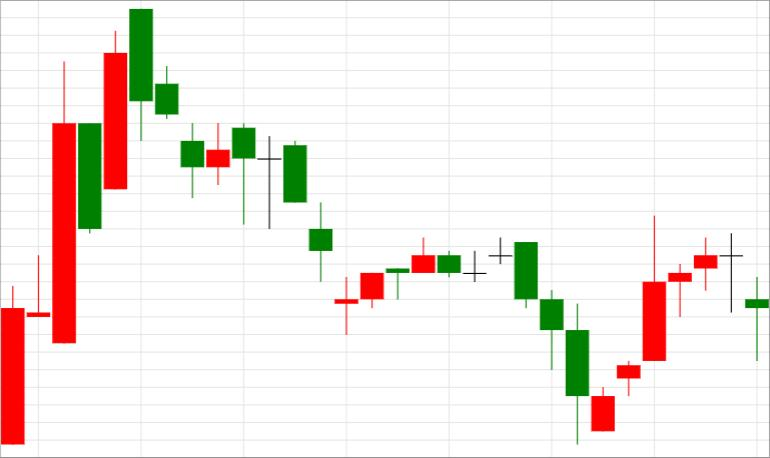three_black_crows_fall: (335, 238, 589, 444)
